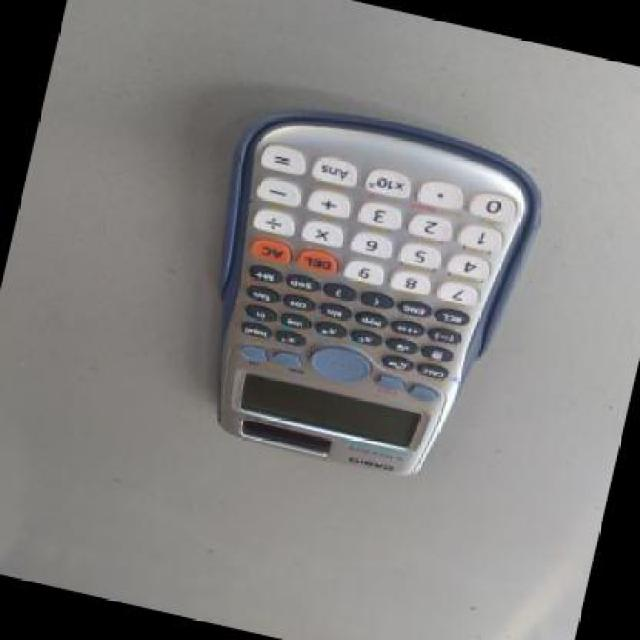Calculator: (150, 83, 556, 512)
